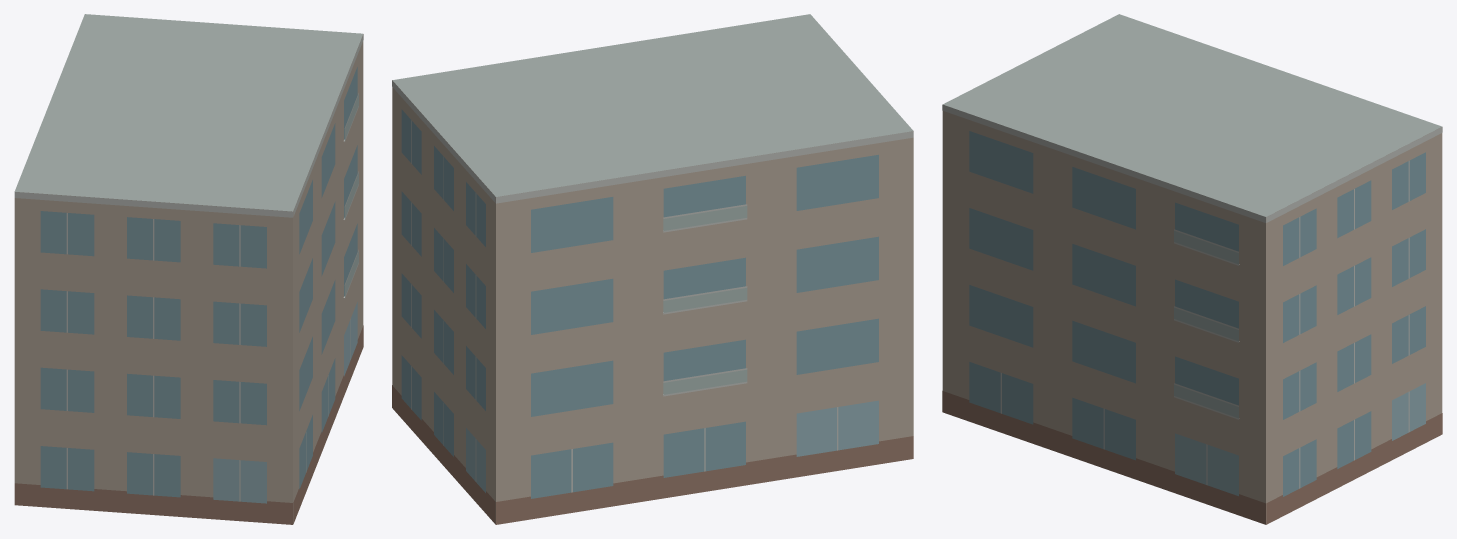
File: residential-846fcc0d-32ed-45df-9dea-0ac7e54cce12.glb
The picture shows the model from 3 angles, left to right: view 1: azimuth 30°, elevation 25°; view 2: azimuth 150°, elevation 25°; view 3: azimuth 270°, elevation 25°; orthographic projection. The views are drawn at different scales.
Visible parts, largest first — view 1: residential-846fcc0d-32ed-45df-9dea-0ac7e54cce12.tmp; view 2: residential-846fcc0d-32ed-45df-9dea-0ac7e54cce12.tmp; view 3: residential-846fcc0d-32ed-45df-9dea-0ac7e54cce12.tmp.
Part boxes in pixels (x1,y1,x2,y2): residential-846fcc0d-32ed-45df-9dea-0ac7e54cce12.tmp: [14, 14, 363, 524]; residential-846fcc0d-32ed-45df-9dea-0ac7e54cce12.tmp: [392, 14, 913, 524]; residential-846fcc0d-32ed-45df-9dea-0ac7e54cce12.tmp: [942, 14, 1442, 524].
Size of the model in its own units: 17.27 by 12.2 by 17.97.
